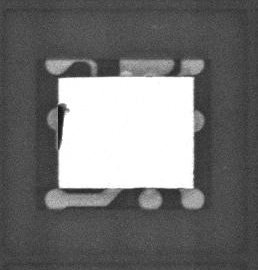DIE_BROKEN: (56, 102, 68, 150)
